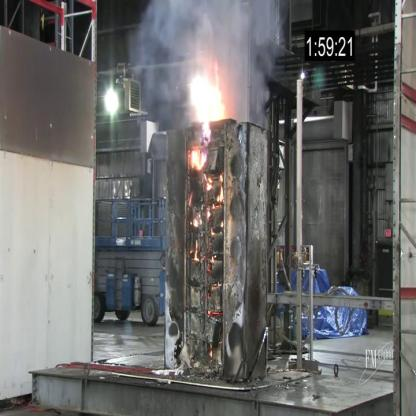fire: (189, 69, 227, 140), (191, 149, 208, 171), (217, 171, 224, 209), (194, 210, 204, 230), (206, 177, 214, 192), (194, 240, 198, 269)
